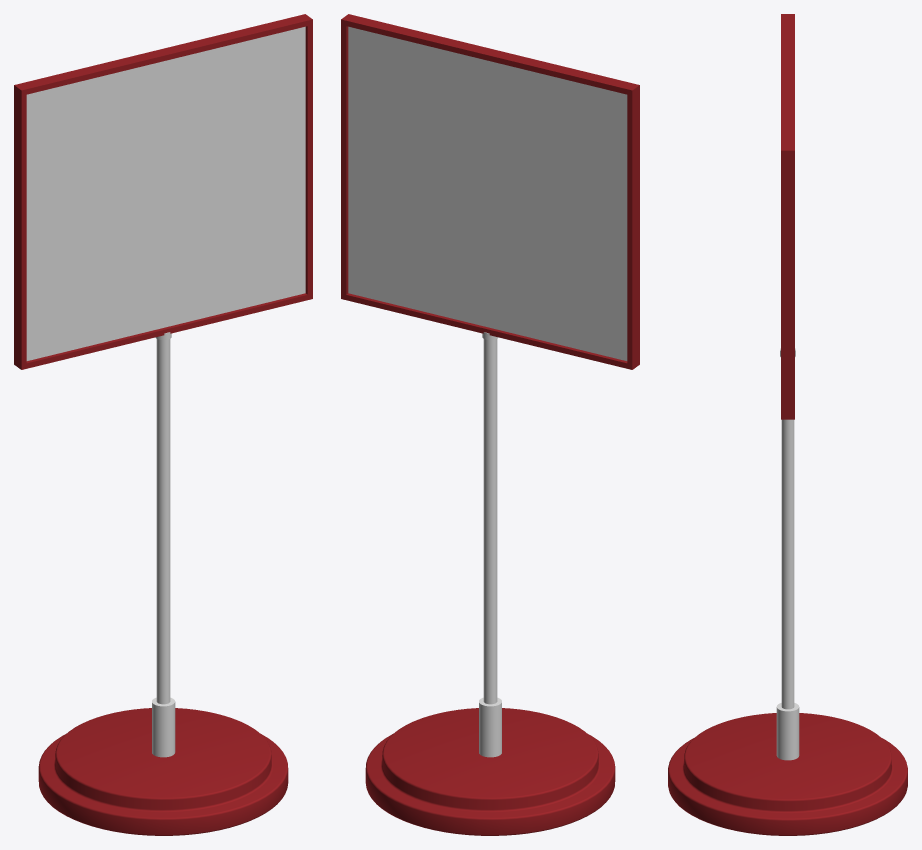
The model's file is advertisingstand 2.glb.
The picture shows the model from 3 angles, left to right: view 1: azimuth 30°, elevation 25°; view 2: azimuth 150°, elevation 25°; view 3: azimuth 270°, elevation 25°; orthographic projection. The views are drawn at different scales.
Visible parts, largest first — view 1: Billboard_4, Stand_5, Pole_8, Stripes_7; view 2: Billboard_4, Stand_5, Pole_8, Stripes_7; view 3: Stand_5, Billboard_4, Pole_8, Stripes_7.
Part boxes in pixels (x1,y1,x2,y2): Billboard_4: (14,14,312,369); Stand_5: (38,708,288,835); Pole_8: (156,339,170,704); Stripes_7: (152,332,175,757); Billboard_4: (341,14,639,369); Stand_5: (365,708,615,835); Pole_8: (483,339,497,704); Stripes_7: (479,332,501,757); Stand_5: (668,713,907,835); Billboard_4: (781,14,794,419); Pole_8: (781,419,794,709); Stripes_7: (776,348,799,760).
Bounding box in the file's own units: 1.1 × 2.65 × 0.8187.
